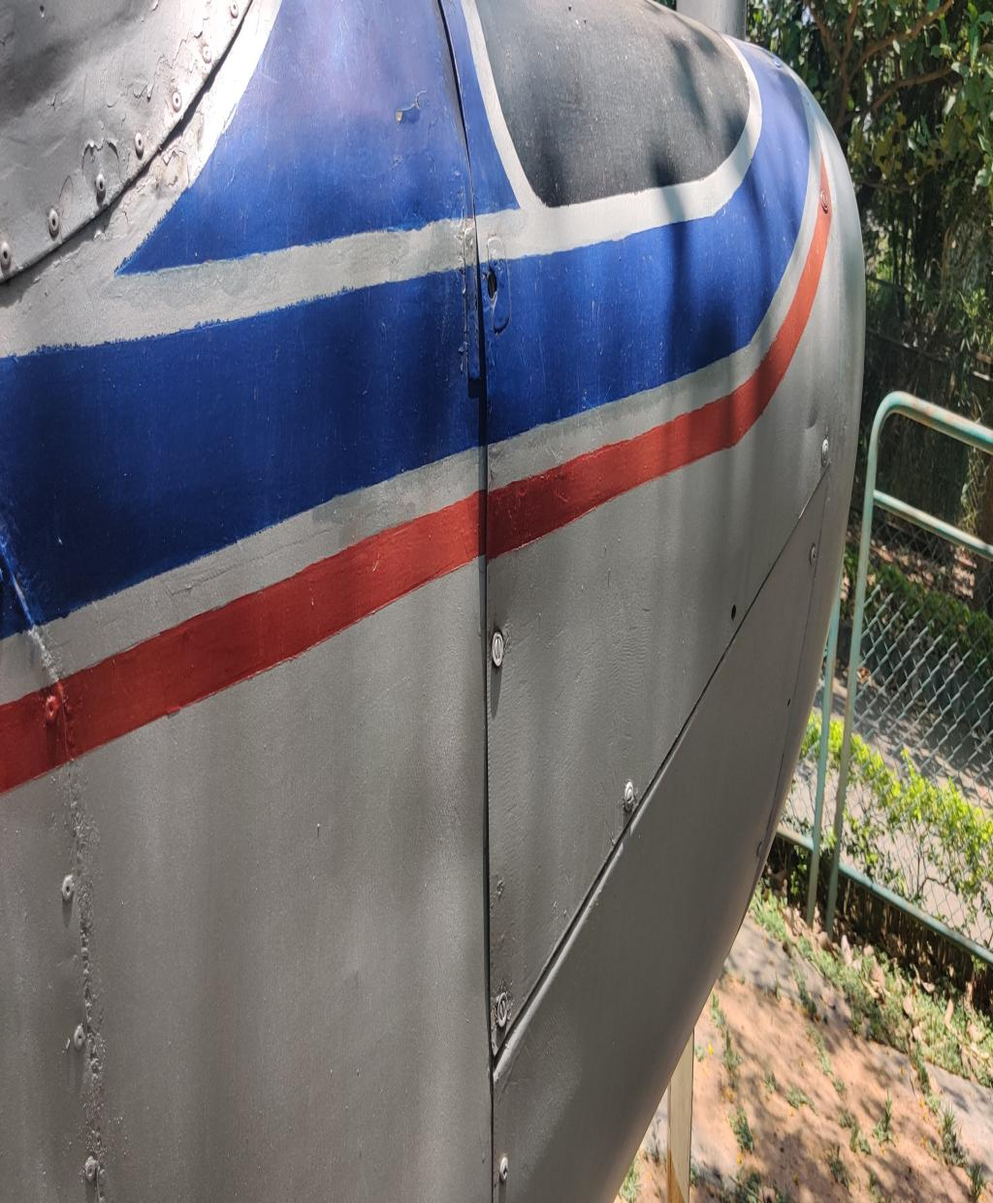corrosion: (76, 110, 125, 237), (147, 119, 195, 227), (388, 59, 429, 154)
dent: (796, 374, 826, 457)
